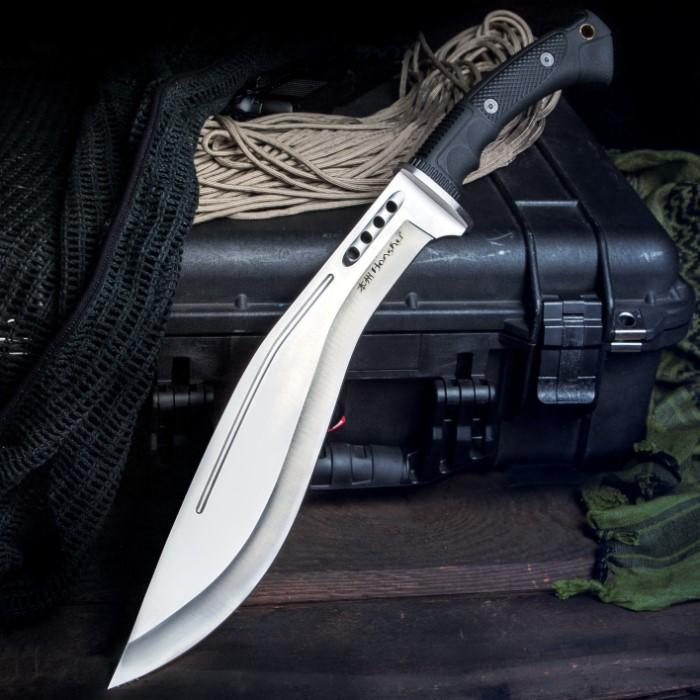facao: (108, 6, 621, 696)
